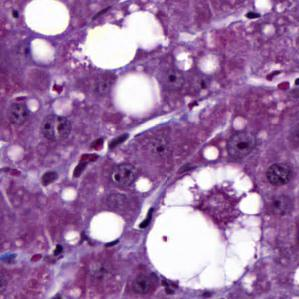ballooning: (144, 162, 265, 291)
